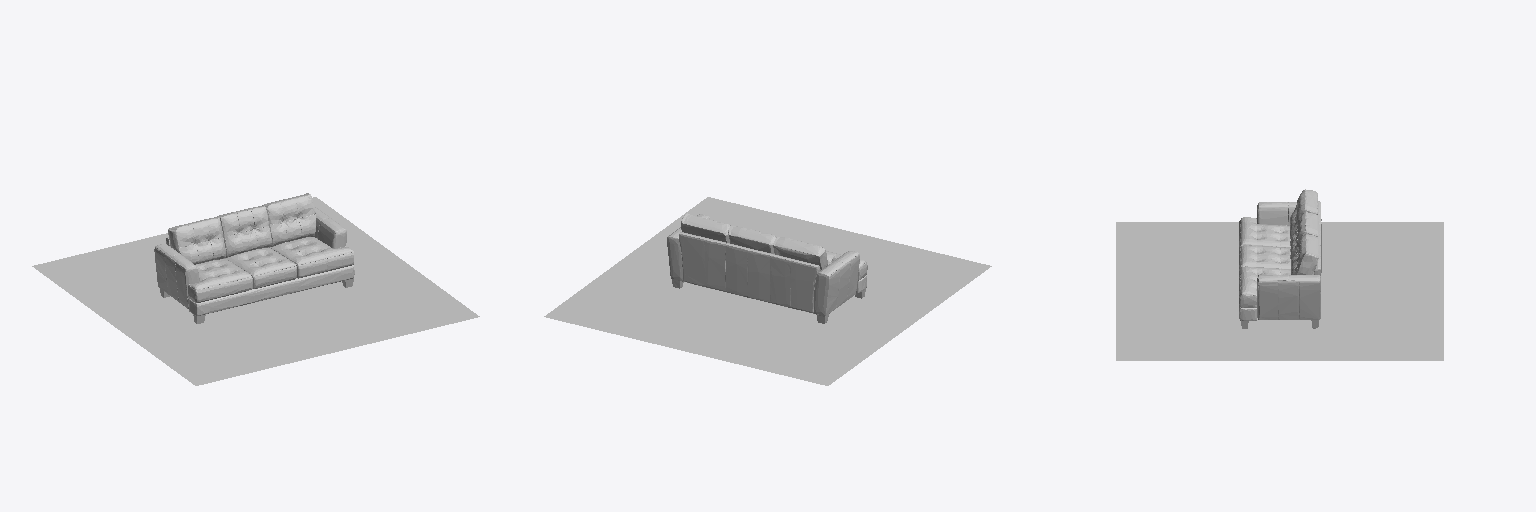
The model's file is sofa.obj.
3 renders of one model, left to right at view 1: azimuth 30°, elevation 25°; view 2: azimuth 150°, elevation 25°; view 3: azimuth 270°, elevation 25°, orthographic.
Visible parts, largest first — view 1: shadow_plane_v6, not_clear_obj_0_v6; view 2: shadow_plane_v6, not_clear_obj_0_v6; view 3: shadow_plane_v6, not_clear_obj_0_v6.
Part boxes in pixels (bbox=[...]): shadow_plane_v6: bbox=[32, 197, 479, 385]; not_clear_obj_0_v6: bbox=[154, 193, 354, 315]; shadow_plane_v6: bbox=[544, 197, 991, 385]; not_clear_obj_0_v6: bbox=[667, 213, 867, 315]; shadow_plane_v6: bbox=[1116, 222, 1443, 360]; not_clear_obj_0_v6: bbox=[1239, 189, 1321, 320].
Size of the model in its own units: 382 by 91.34 by 382.